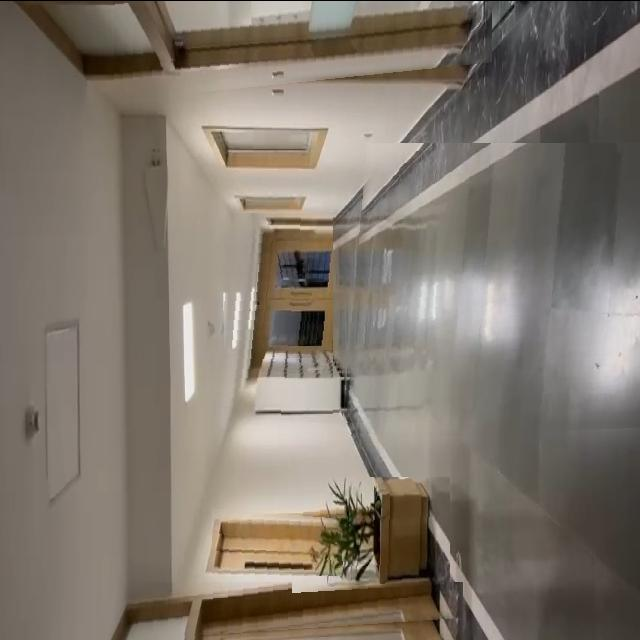door: (108, 0, 492, 101), (212, 212, 333, 421), (115, 581, 463, 640), (212, 506, 344, 574)
floor: (341, 142, 640, 440)
furniture: (292, 476, 450, 592)
